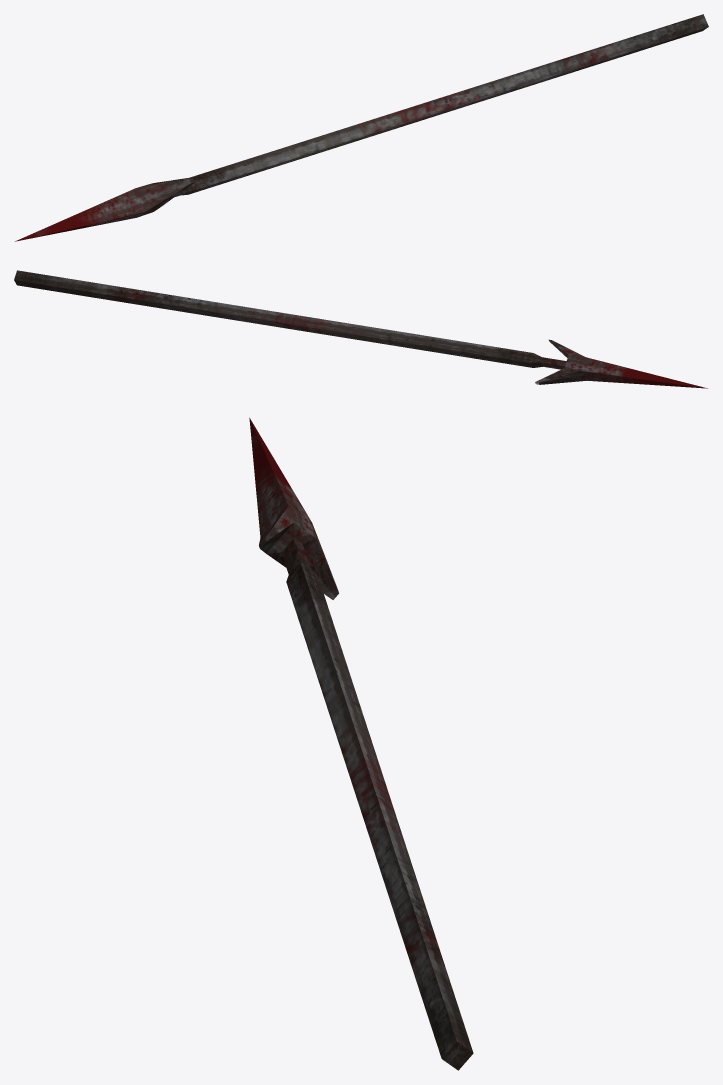
File: harpoon.glb
The picture shows the model from 3 angles, top to bottom: view 1: azimuth 30°, elevation 25°; view 2: azimuth 150°, elevation 25°; view 3: azimuth 270°, elevation 25°; orthographic projection. The views are drawn at different scales.
Parts seen in each view (by area): view 1: Harpoon_Harpoon_0; view 2: Harpoon_Harpoon_0; view 3: Harpoon_Harpoon_0.
Part boxes in pixels (x1,y1,x2,y2): Harpoon_Harpoon_0: [15, 14, 708, 241]; Harpoon_Harpoon_0: [14, 270, 707, 388]; Harpoon_Harpoon_0: [249, 417, 473, 1070].
Size of the model in its own units: 48.5 by 2.27 by 7.35.
1 material, 1 textured.
